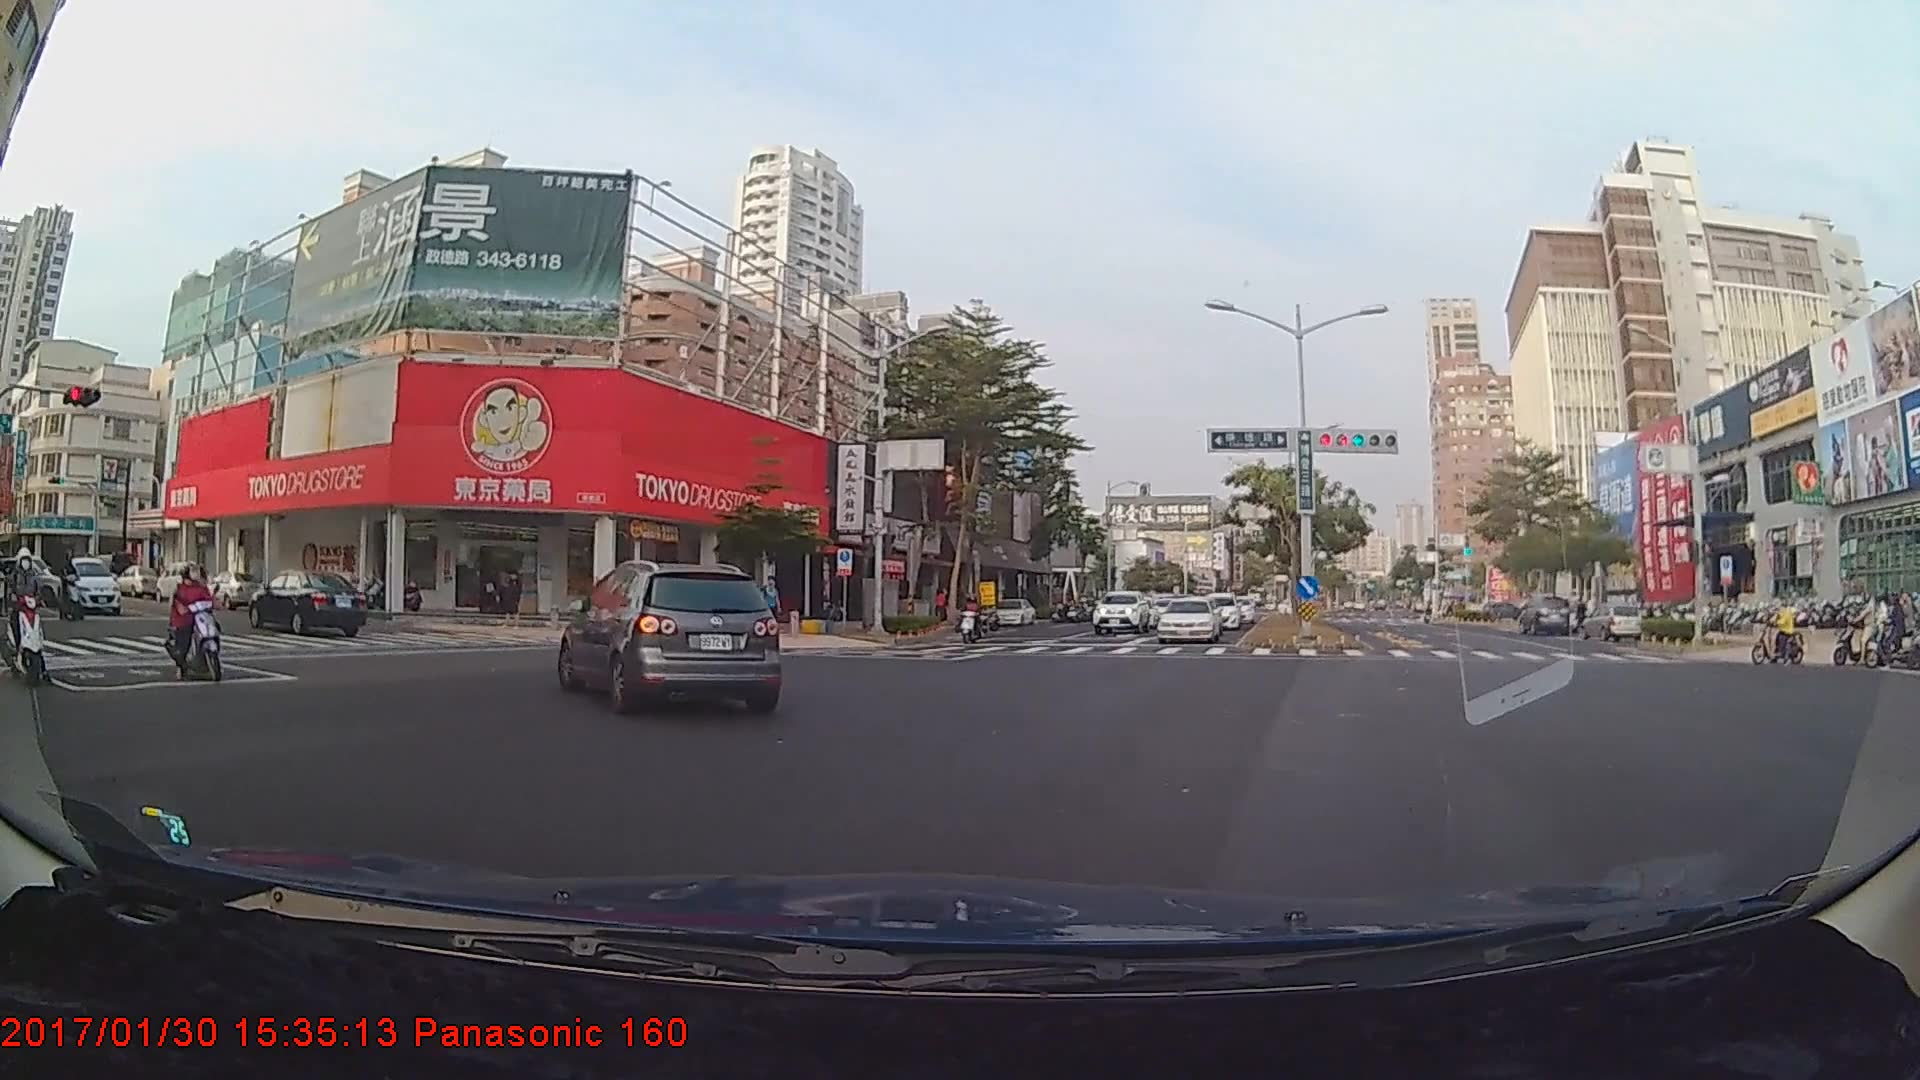rider: (165, 561, 230, 683), (7, 555, 69, 681), (957, 586, 986, 641)
vehicle: (558, 559, 782, 715), (248, 570, 370, 638), (59, 555, 121, 611), (1154, 593, 1217, 639), (1092, 588, 1150, 633), (1516, 593, 1571, 634), (1198, 589, 1239, 630), (987, 597, 1035, 626)
